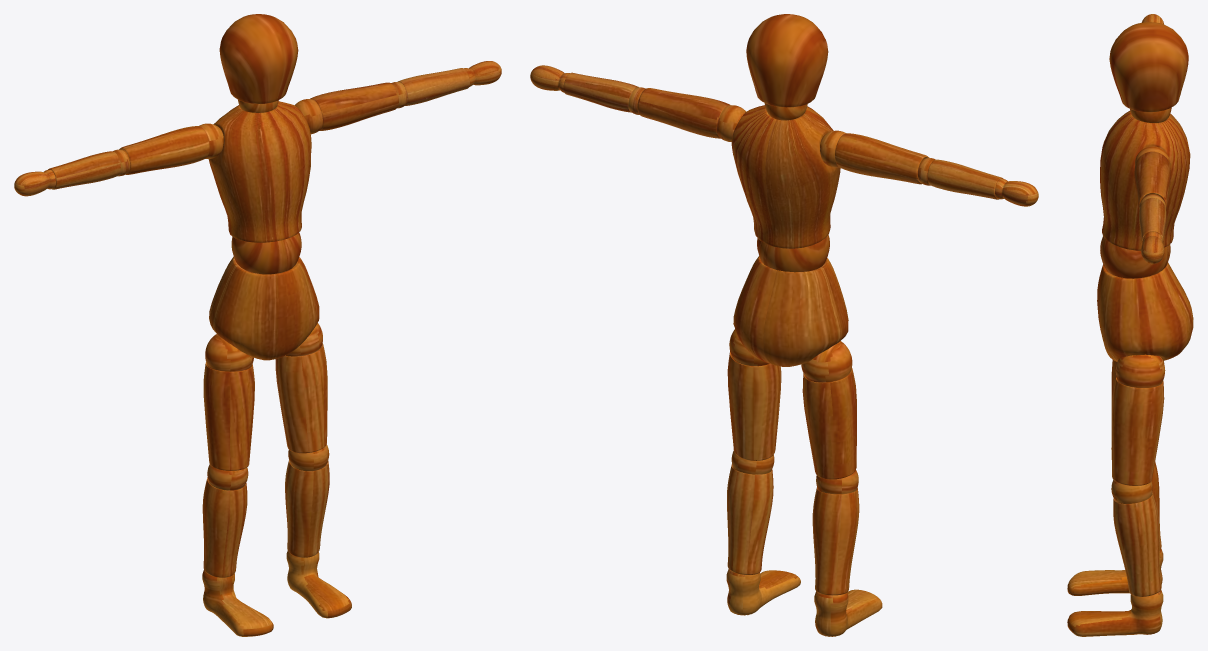
The model's file is Manniquin.obj.
The picture shows the model from 3 angles, left to right: view 1: azimuth 30°, elevation 25°; view 2: azimuth 150°, elevation 25°; view 3: azimuth 270°, elevation 25°; orthographic projection. The views are drawn at different scales.
Visible parts, largest first — view 1: SM_Torso, pSphere3, pSphere4, SM_Pelvis, pSphere1, polySurface9, pSphere5, pSphere2, pSphere6; view 2: SM_Torso, pSphere3, pSphere4, SM_Pelvis, pSphere1, polySurface9, pSphere5, pSphere2, pSphere6; view 3: SM_Torso, SM_Pelvis, pSphere3, polySurface9, pSphere4, pSphere5, pSphere1, pSphere2, pSphere6.
Part boxes in pixels (box(x1,y1,x2,y2)): SM_Torso: box(208, 101, 311, 274); pSphere3: box(203, 323, 327, 470); pSphere4: box(202, 444, 329, 577); SM_Pelvis: box(209, 256, 319, 360); pSphere1: box(119, 82, 398, 174); polySurface9: box(219, 14, 298, 112); pSphere5: box(202, 550, 351, 636); pSphere2: box(48, 68, 469, 189); pSphere6: box(14, 61, 501, 196); SM_Torso: box(731, 105, 840, 272); pSphere3: box(727, 329, 856, 479); pSphere4: box(727, 450, 859, 595); SM_Pelvis: box(733, 256, 848, 366); pSphere1: box(637, 88, 929, 184); polySurface9: box(746, 14, 828, 120); pSphere5: box(726, 569, 882, 636); pSphere2: box(563, 72, 1003, 199); pSphere6: box(530, 65, 1038, 206); SM_Torso: box(1100, 110, 1190, 278); SM_Pelvis: box(1097, 262, 1193, 361); pSphere3: box(1111, 354, 1165, 485); polySurface9: box(1109, 22, 1188, 122); pSphere4: box(1111, 448, 1161, 596); pSphere5: box(1067, 548, 1163, 636); pSphere1: box(1134, 146, 1170, 208); pSphere2: box(1139, 194, 1166, 243); pSphere6: box(1141, 14, 1164, 264).
Size of the model in its own units: 129 by 147 by 28.78.
3 materials, 3 textured.
